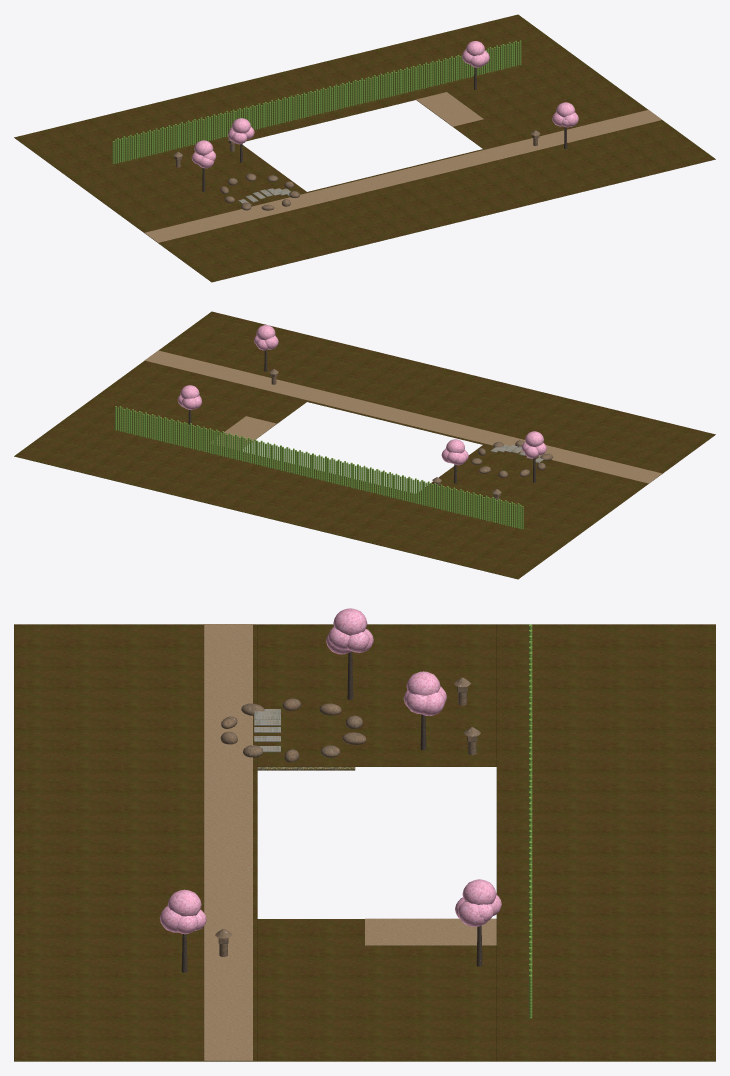
Rendered from sushi-luar.glb.
The picture shows the model from 3 angles, top to bottom: view 1: azimuth 30°, elevation 25°; view 2: azimuth 150°, elevation 25°; view 3: azimuth 270°, elevation 25°; orthographic projection. The views are drawn at different scales.
Parts seen in each view (by area): view 1: statis; view 2: statis; view 3: statis.
Part boxes in pixels (left/top/right/bottom): statis: left=14, top=14, right=715, bottom=282; statis: left=14, top=311, right=715, bottom=579; statis: left=14, top=608, right=715, bottom=1061.
Bounding box in the file's own units: 42.4 × 4.62 × 28.8.
Materials: 10 (8 with a texture image).
